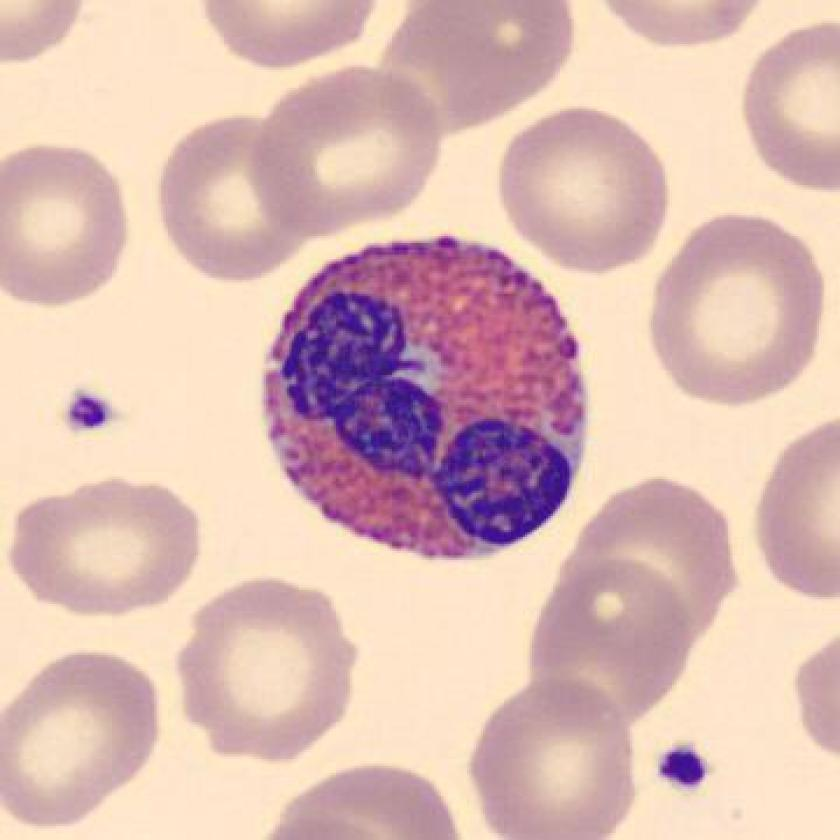eosinophil: (251, 216, 605, 577)
